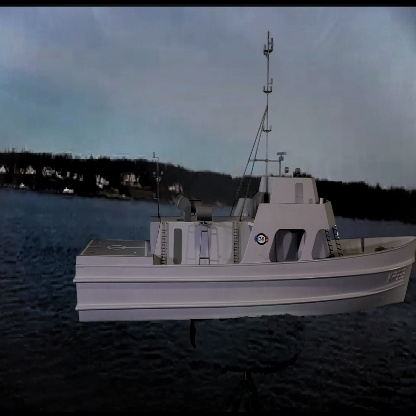YP689: (72, 31, 416, 320)
